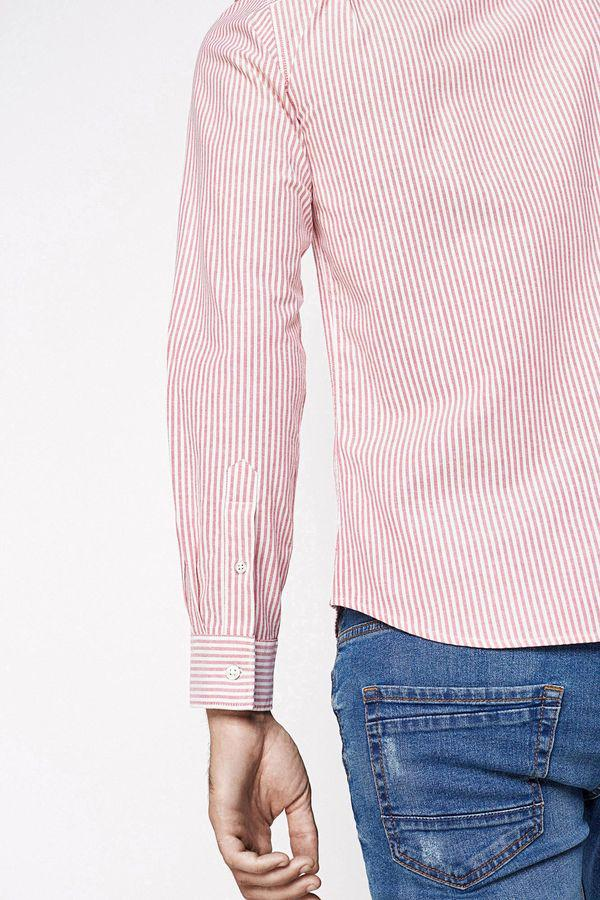teeshirt: (156, 8, 600, 681)
